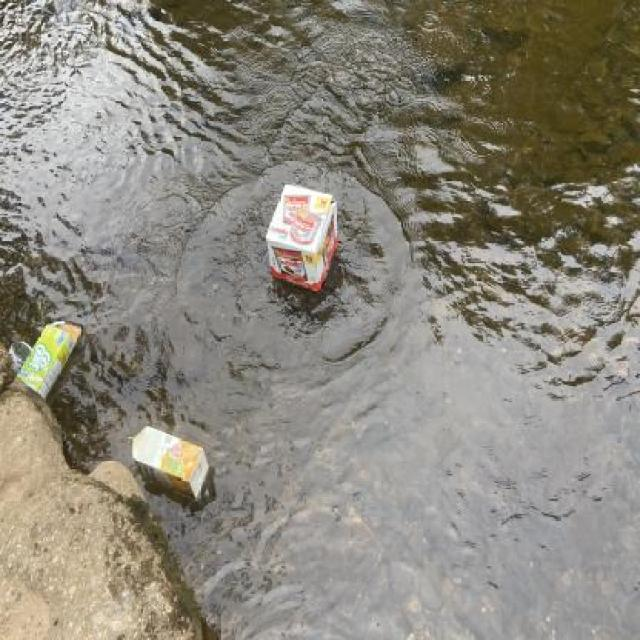Cardboard: (264, 174, 342, 295), (119, 419, 212, 504), (5, 313, 85, 405)
